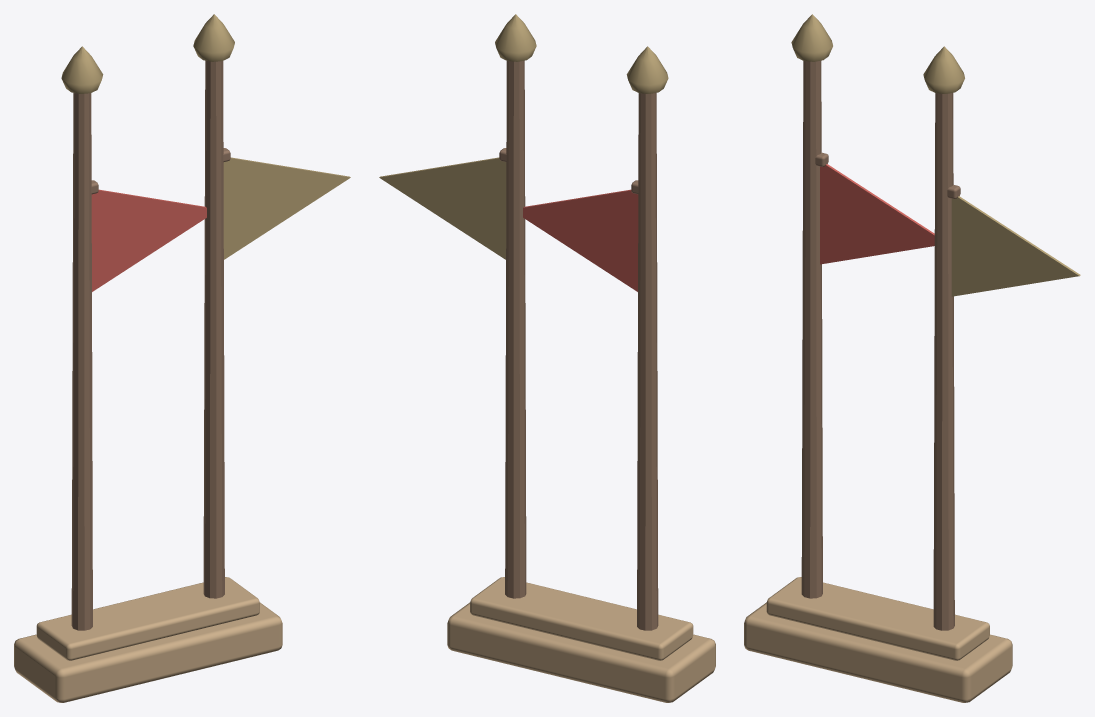
Rendered from pennant-pair.glb.
3 renders of one model, left to right at view 1: azimuth 30°, elevation 25°; view 2: azimuth 150°, elevation 25°; view 3: azimuth 330°, elevation 25°, orthographic.
Parts seen in each view (by area): view 1: pennant-pair-on-poles; view 2: pennant-pair-on-poles; view 3: pennant-pair-on-poles.
Boxes of the visible parts, <box> form: pennant-pair-on-poles: <box>14,14,350,702</box>; pennant-pair-on-poles: <box>379,14,715,702</box>; pennant-pair-on-poles: <box>744,14,1080,702</box>.
Size of the model in its own units: 1.53 by 2.93 by 0.4001.
